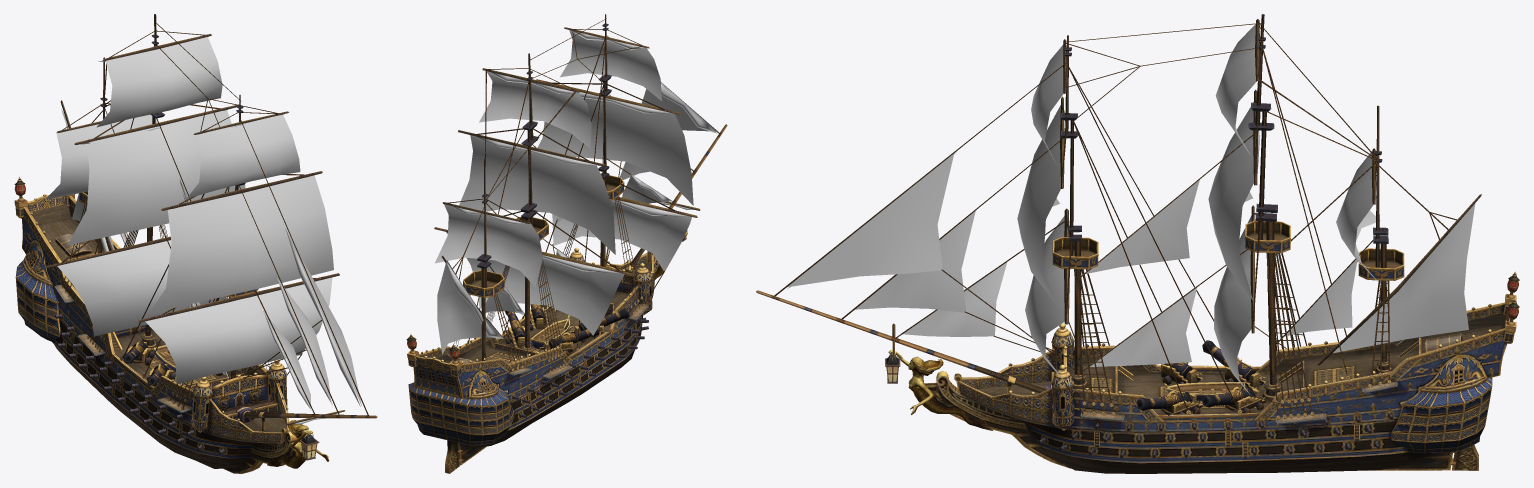
File: T_Ship_16.fbx
3 renders of one model, left to right at view 1: azimuth 30°, elevation 25°; view 2: azimuth 150°, elevation 25°; view 3: azimuth 270°, elevation 25°, orthographic. The views are drawn at different scales.
Parts seen in each view (by area): view 1: T_Ship_p1, T_Ship_16, T_Ship_16_p2, T_Ship_16_p4, T_Ship_p1_off, T_Ship_16_p3; view 2: T_Ship_p1, T_Ship_16, T_Ship_p1_off, T_Ship_16_p2, T_Ship_16_p3, T_Ship_16_p4, T_Ship_16_p5; view 3: T_Ship_16, T_Ship_p1, T_Ship_16_p2, T_Ship_16_p4, T_Ship_16_p3.
Part boxes in pixels (left/top/right/bottom): T_Ship_p1: left=45, top=37, right=361, bottom=424; T_Ship_16: left=14, top=14, right=377, bottom=443; T_Ship_16_p2: left=52, top=319, right=253, bottom=458; T_Ship_16_p4: left=223, top=420, right=329, bottom=473; T_Ship_p1_off: left=63, top=49, right=360, bottom=407; T_Ship_16_p3: left=54, top=344, right=250, bottom=468; T_Ship_p1: left=435, top=30, right=717, bottom=354; T_Ship_16: left=406, top=14, right=727, bottom=445; T_Ship_p1_off: left=447, top=30, right=716, bottom=338; T_Ship_16_p2: left=507, top=315, right=648, bottom=431; T_Ship_16_p3: left=470, top=324, right=635, bottom=447; T_Ship_16_p4: left=458, top=230, right=687, bottom=465; T_Ship_16_p5: left=445, top=440, right=463, bottom=473; T_Ship_16: left=756, top=14, right=1519, bottom=453; T_Ship_p1: left=787, top=24, right=1475, bottom=394; T_Ship_16_p2: left=1024, top=420, right=1410, bottom=463; T_Ship_16_p4: left=885, top=349, right=1452, bottom=470; T_Ship_16_p3: left=1042, top=431, right=1432, bottom=473.
Bounding box in the file's own units: 5.81 × 9.94 × 15.05.
